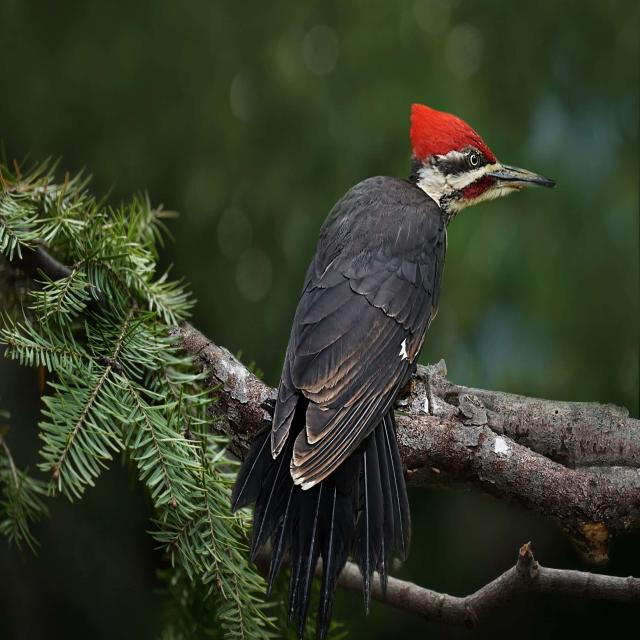Woodpecker: (221, 79, 555, 631)
